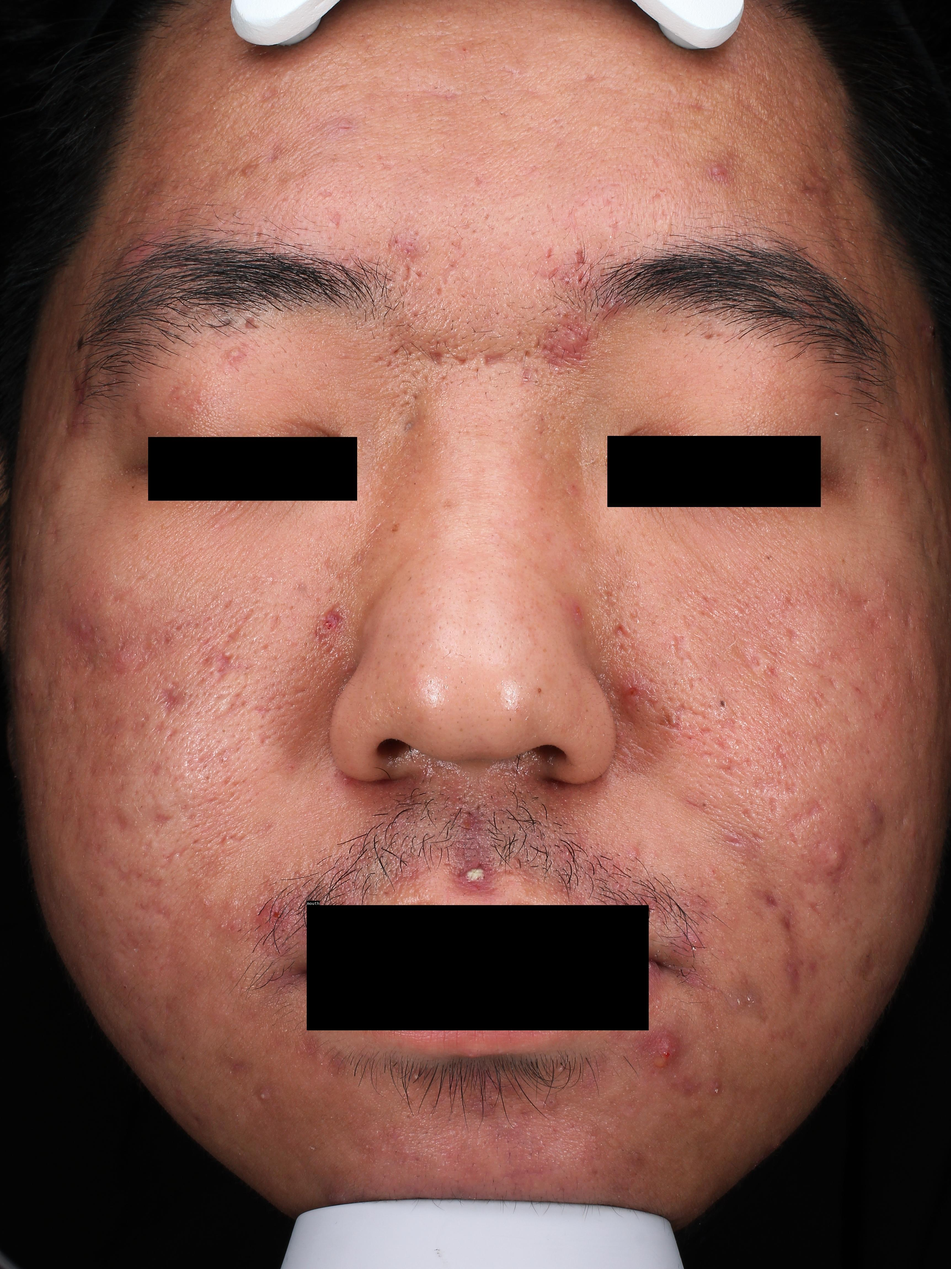atrophic_scar: (803, 147, 850, 260), (898, 420, 934, 523), (782, 796, 826, 851), (122, 172, 167, 224), (66, 607, 97, 674), (755, 748, 795, 796), (115, 924, 157, 968), (66, 359, 92, 428), (89, 634, 122, 686), (65, 809, 102, 852), (314, 599, 347, 646), (134, 622, 163, 672), (106, 866, 161, 892), (782, 943, 804, 1005), (138, 1026, 172, 1063), (669, 636, 702, 674), (322, 113, 365, 142), (86, 751, 126, 779), (731, 987, 766, 1019), (224, 608, 254, 645), (807, 855, 842, 886), (74, 870, 110, 899), (741, 98, 781, 124), (197, 648, 239, 672), (216, 1052, 253, 1079), (157, 681, 188, 713), (92, 712, 127, 740), (867, 802, 888, 848), (137, 895, 175, 920), (157, 843, 191, 870), (698, 1129, 728, 1159), (251, 695, 295, 715), (217, 689, 249, 715), (417, 83, 463, 101), (166, 923, 186, 964), (126, 401, 153, 431), (815, 647, 855, 667), (918, 531, 938, 571), (665, 1077, 703, 1097), (775, 1026, 807, 1048), (856, 946, 874, 984), (659, 705, 682, 734), (680, 93, 711, 114), (847, 588, 871, 615), (814, 732, 838, 759), (436, 259, 459, 286), (234, 156, 260, 179), (266, 143, 290, 167), (109, 807, 128, 837), (218, 832, 248, 850), (756, 884, 779, 907), (56, 416, 69, 456), (776, 909, 795, 936), (61, 760, 80, 787), (672, 702, 703, 718), (899, 609, 915, 640), (852, 677, 872, 701), (770, 742, 788, 768), (463, 811, 484, 833), (274, 167, 299, 185), (46, 521, 62, 549), (570, 243, 586, 270), (375, 153, 397, 172), (805, 898, 824, 919), (720, 761, 742, 779), (131, 712, 148, 735), (180, 694, 198, 715), (68, 691, 80, 722), (743, 829, 766, 845), (485, 350, 505, 368), (740, 808, 758, 827), (718, 716, 736, 734), (694, 588, 712, 606), (259, 84, 276, 103), (401, 415, 417, 435), (899, 804, 910, 833), (691, 725, 712, 740), (428, 345, 442, 367), (74, 739, 90, 758), (713, 739, 733, 754), (499, 65, 520, 79), (613, 623, 629, 640), (782, 625, 797, 643), (397, 263, 412, 281), (216, 748, 230, 767), (149, 757, 163, 776), (584, 73, 610, 83), (269, 613, 282, 633), (244, 316, 261, 331), (151, 814, 169, 828), (722, 836, 743, 847), (644, 694, 656, 713), (331, 211, 343, 230), (110, 591, 126, 605), (149, 719, 166, 732), (608, 219, 619, 238), (629, 610, 643, 624), (163, 727, 178, 740), (810, 697, 822, 713), (447, 238, 463, 250), (19, 549, 29, 568), (316, 190, 333, 201), (765, 665, 779, 678), (619, 641, 631, 656), (533, 334, 542, 353), (255, 225, 265, 242), (826, 679, 838, 693), (199, 797, 220, 805), (163, 631, 174, 646), (142, 838, 151, 856), (748, 653, 760, 666), (768, 798, 776, 817), (260, 732, 271, 745), (224, 596, 233, 611), (25, 523, 34, 538), (548, 267, 558, 280), (175, 620, 186, 631), (230, 779, 241, 790), (199, 753, 211, 763), (39, 502, 47, 516), (455, 356, 466, 366), (601, 197, 611, 208), (227, 792, 236, 804), (261, 643, 271, 653), (223, 775, 232, 785), (196, 678, 206, 687), (474, 177, 483, 187), (213, 691, 222, 700), (744, 759, 752, 769), (202, 615, 210, 625), (547, 246, 553, 259), (653, 157, 660, 168), (524, 349, 531, 359), (658, 187, 668, 194), (605, 590, 613, 598), (483, 212, 490, 221), (551, 118, 561, 124), (716, 362, 723, 370), (436, 288, 442, 297), (192, 838, 201, 844), (653, 193, 662, 199), (416, 271, 423, 277), (208, 671, 214, 678), (610, 182, 620, 186), (37, 529, 41, 535)
closed_comedo: (197, 635, 212, 651), (541, 342, 556, 355), (501, 1119, 514, 1132), (420, 374, 429, 385), (591, 124, 600, 132), (410, 393, 419, 401), (373, 355, 383, 362), (664, 299, 671, 308), (401, 400, 411, 406), (229, 972, 236, 980), (364, 1143, 371, 1151), (401, 389, 409, 396), (386, 359, 392, 367), (740, 977, 746, 984), (780, 183, 787, 189), (381, 464, 387, 470), (558, 1066, 563, 1072), (565, 852, 570, 857), (655, 1004, 660, 1009), (698, 79, 703, 84), (672, 1074, 678, 1078), (381, 1148, 386, 1152), (250, 129, 255, 133), (826, 101, 829, 106)
hypertrophic_scar: (752, 649, 775, 675), (221, 647, 240, 663)
nevus: (810, 981, 831, 1012), (866, 868, 885, 889), (705, 329, 728, 343), (76, 336, 82, 351), (767, 554, 773, 561), (842, 558, 845, 563)
nodule: (116, 238, 165, 270)
open_comedo: (575, 272, 586, 287), (532, 378, 541, 385), (204, 775, 211, 783), (549, 1099, 556, 1106), (632, 100, 638, 106), (122, 985, 127, 990), (222, 729, 226, 734), (328, 599, 332, 602), (361, 34, 365, 37)
other: (537, 687, 542, 694), (865, 427, 870, 432)
papule: (257, 906, 281, 929), (824, 846, 847, 869), (682, 929, 704, 952), (658, 1037, 677, 1061), (113, 649, 132, 672), (569, 600, 586, 624), (320, 615, 338, 635), (712, 164, 724, 177), (625, 684, 636, 698), (46, 402, 54, 420), (146, 634, 156, 647), (79, 622, 88, 633), (631, 847, 638, 857), (687, 732, 693, 739)
pustule: (465, 867, 484, 883), (563, 329, 579, 347), (706, 1082, 724, 1097), (229, 347, 242, 359), (258, 1092, 271, 1103), (607, 302, 615, 311), (218, 922, 227, 930), (414, 1076, 419, 1080)
